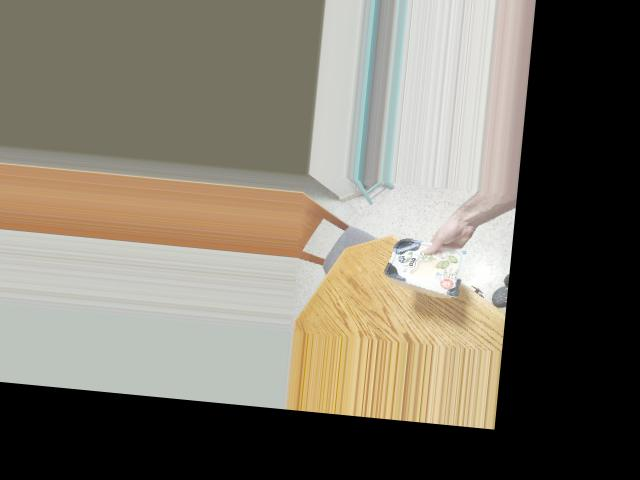cheese: (381, 232, 472, 289)
